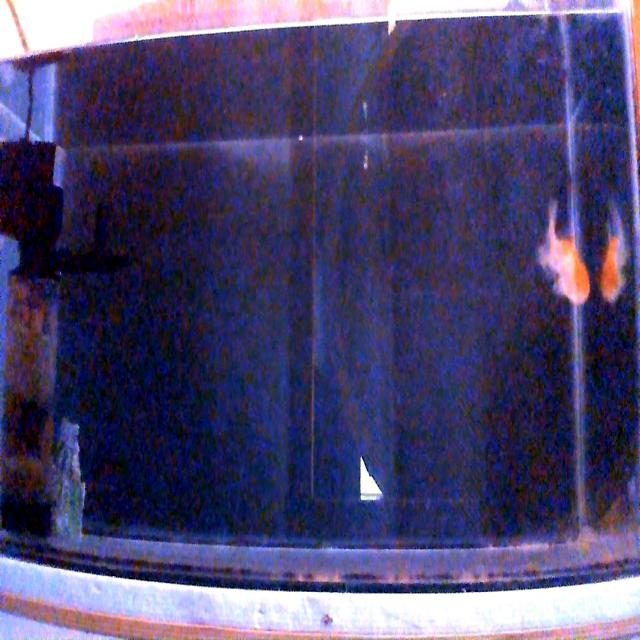fish: (536, 204, 593, 306), (596, 209, 630, 303)
